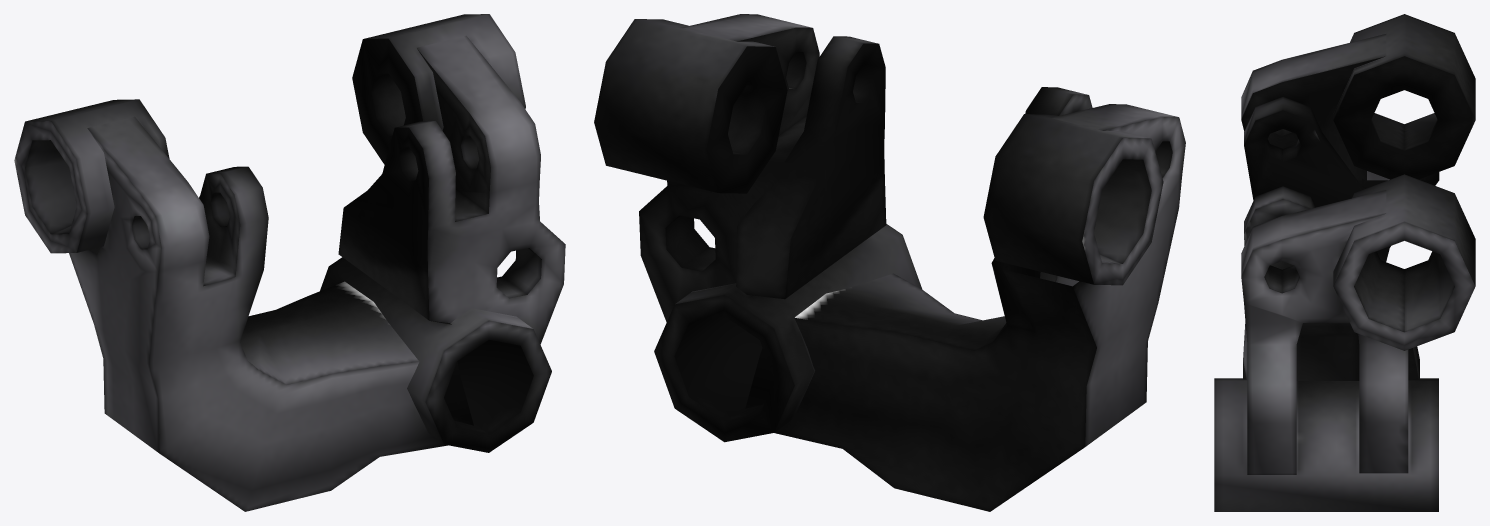
File: r_lglut.obj
3 renders of one model, left to right at view 1: azimuth 30°, elevation 25°; view 2: azimuth 150°, elevation 25°; view 3: azimuth 270°, elevation 25°, orthographic. The views are drawn at different scales.
Visible parts, largest first — view 1: <dummy_root>; view 2: <dummy_root>; view 3: <dummy_root>.
Part boxes in pixels (<box>): <dummy_root>: <box>14,14,565,511</box>; <dummy_root>: <box>594,14,1185,511</box>; <dummy_root>: <box>1214,14,1475,511</box>.
Size of the model in its own units: 0.1439 by 0.1175 by 0.0762.
Materials: 1 (1 with a texture image).
